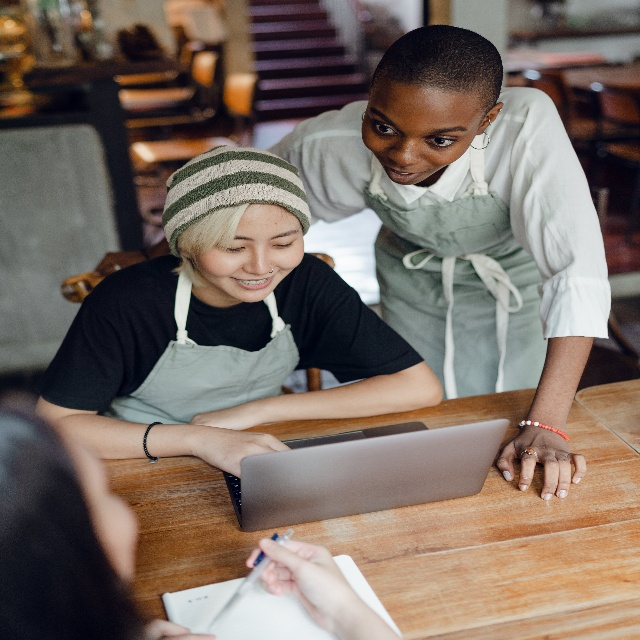Sin_guantes: (245, 534, 349, 628), (496, 424, 588, 502), (199, 426, 290, 481), (189, 401, 262, 432), (97, 250, 142, 275)
